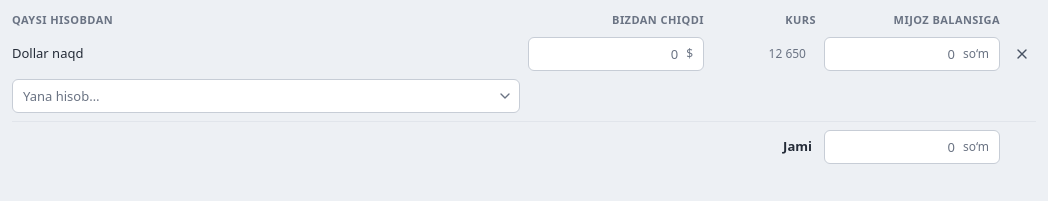
Test case: the ready lines › and money going out worth more than it settles is its loss
Type "100" into the 1st field with placeholder "0".
click(606, 54); type("100")  # box [529,38,682,70]
Then press Tab
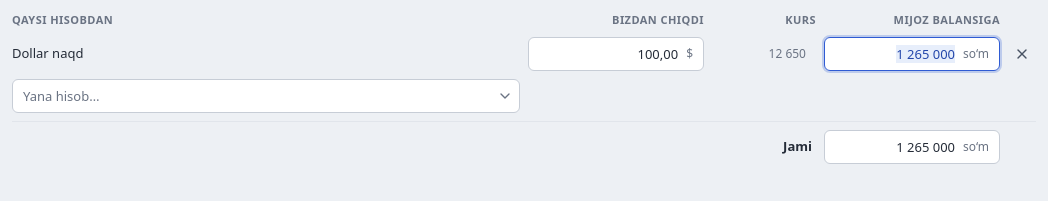
Replace the text in the 2nd field with "1250000" at (892, 54), box [825,38,959,70]
Then press Tab
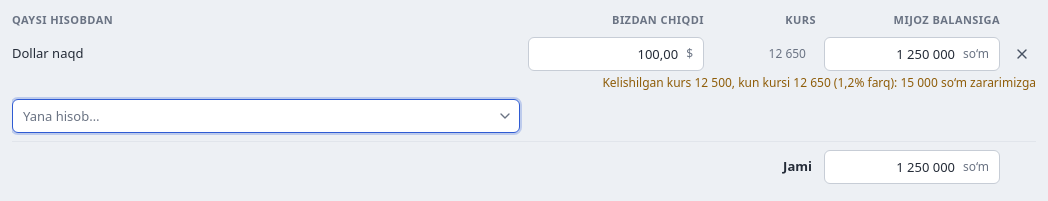
Result: the text "Kelishilgan kurs 12 500, kun kursi 12 650 (1,2% farq): 15 000 so‘m zararimizga" is shown at [602,74,1036,90]
